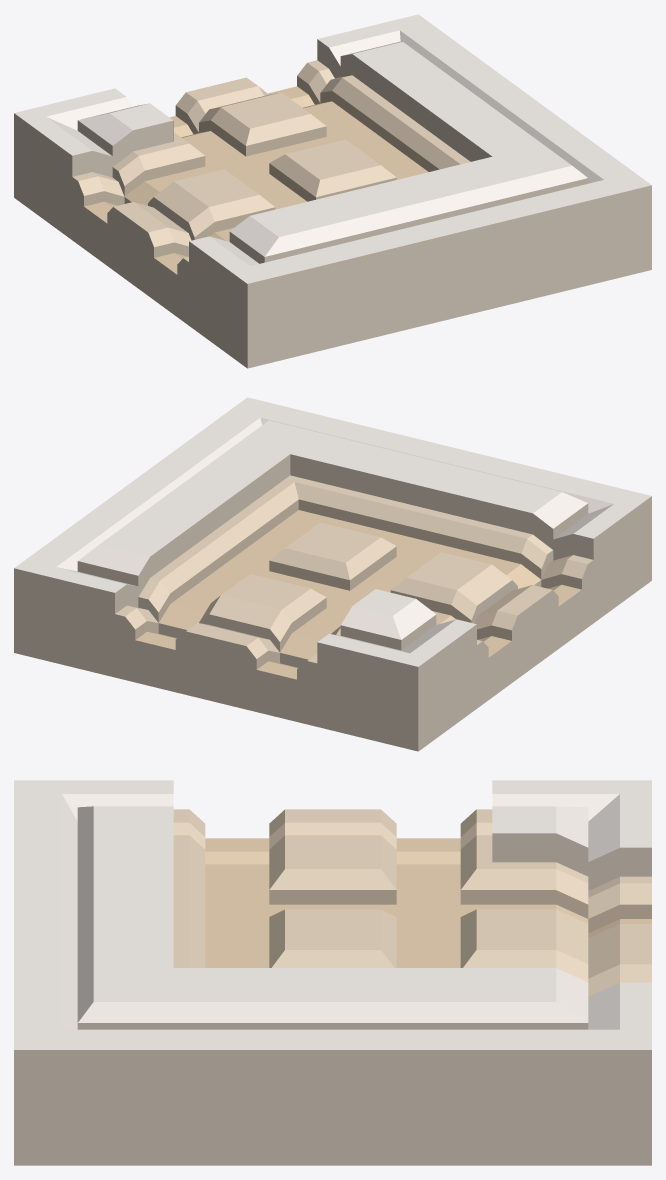
File: Puzzle_Track_Button_Corner.glb
3 renders of one model, top to bottom at view 1: azimuth 30°, elevation 25°; view 2: azimuth 150°, elevation 25°; view 3: azimuth 270°, elevation 25°, orthographic. The views are drawn at different scales.
Parts seen in each view (by area): view 1: Puzzle_Track_Button_Corner; view 2: Puzzle_Track_Button_Corner; view 3: Puzzle_Track_Button_Corner.
Boxes of the visible parts, bbox=[...] form: Puzzle_Track_Button_Corner: bbox=[14, 14, 651, 368]; Puzzle_Track_Button_Corner: bbox=[14, 397, 651, 751]; Puzzle_Track_Button_Corner: bbox=[14, 780, 651, 1165].
Size of the model in its own units: 1 by 0.225 by 1.
